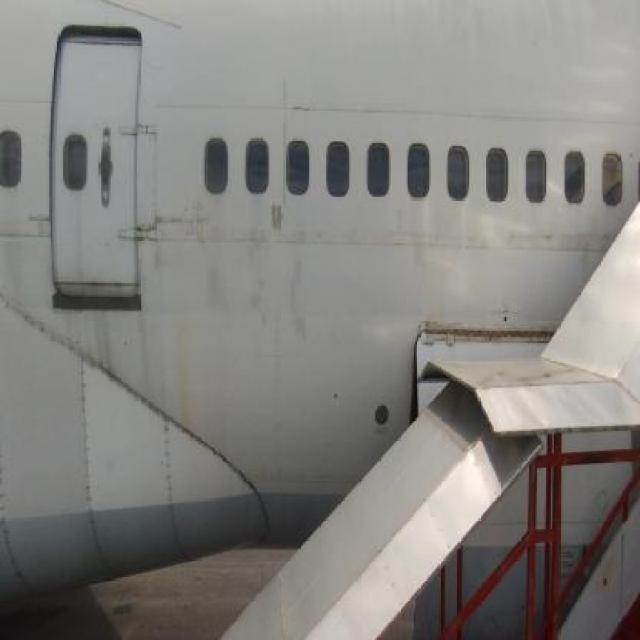Rust: (165, 294, 208, 444)
Scartch: (264, 193, 327, 349)
